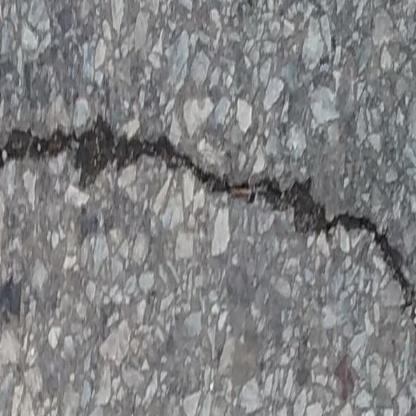Cracks: (0, 112, 416, 352)
